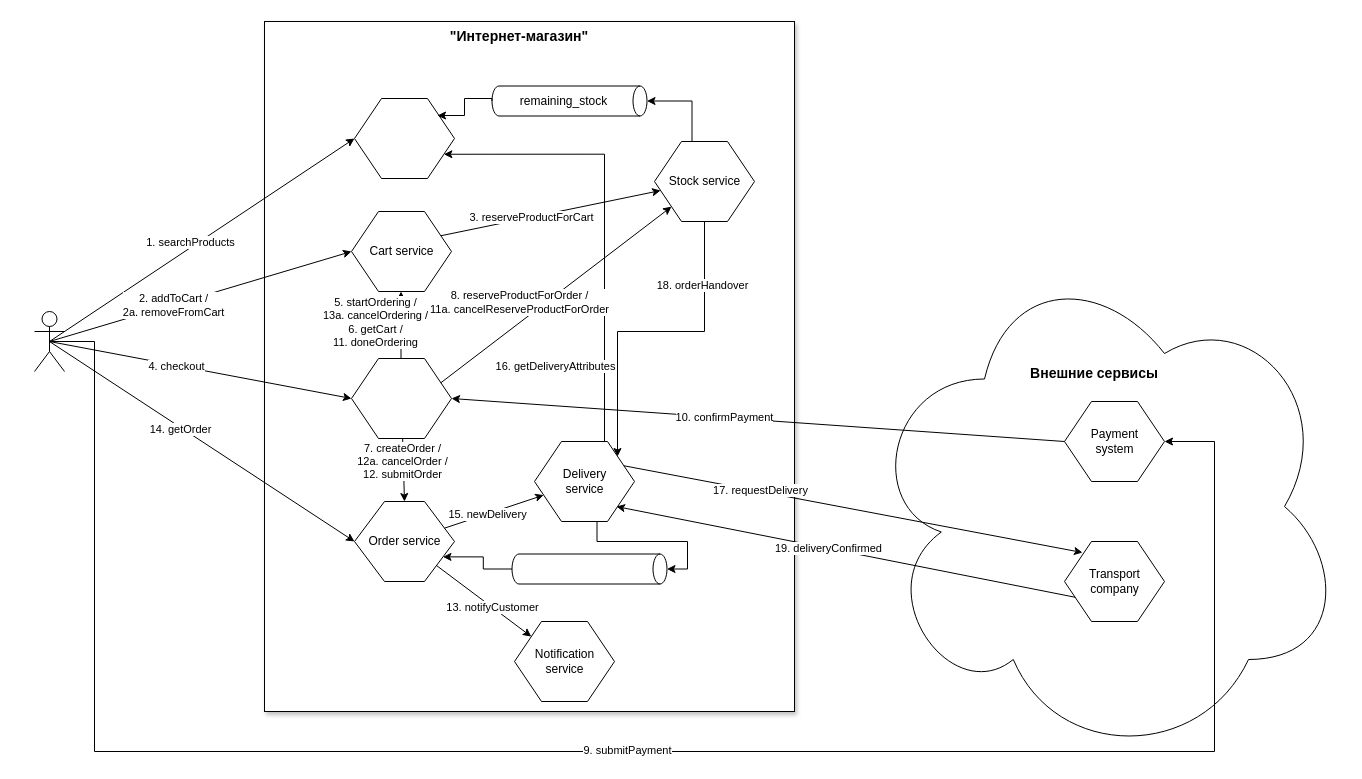
Some shapes in this 1362 by 779 pixel diagram are drawn without their labels. The centre of each missing label's shape, as x and y in pixels:
Checkout service: the point at 401,398
delivery_status: the point at 589,568
Product service: the point at 404,138
Покупатель: the point at 49,341
